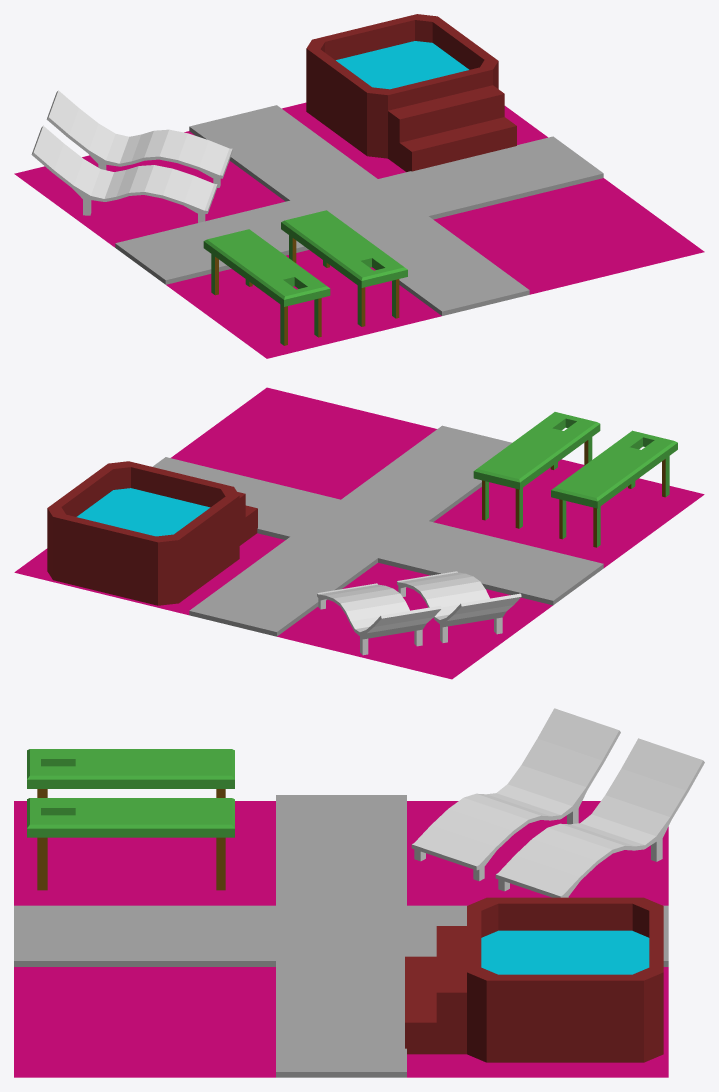
Rendered from Room 7 - Spa Draft - New.fbx.
3 views of the same model, one above another, from view 1: azimuth 30°, elevation 25°; view 2: azimuth 150°, elevation 25°; view 3: azimuth 270°, elevation 25° (orthographic). The views are drawn at different scales.
Parts seen in each view (by area): view 1: pPlane1, HotTub, Sun_Lounge, Sun_Lounge1, Massage_Table1, Massage_Table; view 2: pPlane1, HotTub, Massage_Table1, Massage_Table, Sun_Lounge1, Sun_Lounge; view 3: pPlane1, HotTub, Sun_Lounge, Sun_Lounge1, Massage_Table, Massage_Table1.
Part boxes in pixels (x1,y1,x2,y2): pPlane1: (14, 102, 704, 358); HotTub: (306, 14, 516, 171); Sun_Lounge: (31, 125, 217, 222); Sun_Lounge1: (46, 90, 232, 187); Massage_Table1: (203, 229, 330, 345); Massage_Table: (281, 210, 407, 326); pPlane1: (14, 387, 704, 679); HotTub: (47, 461, 257, 605); Massage_Table1: (551, 430, 677, 547); Massage_Table: (473, 412, 600, 528); Sun_Lounge1: (317, 583, 441, 655); Sun_Lounge: (397, 571, 521, 642); pPlane1: (14, 795, 668, 1077); HotTub: (405, 897, 663, 1062); Sun_Lounge: (411, 708, 620, 881); Sun_Lounge1: (495, 738, 704, 897); Massage_Table: (27, 798, 234, 890); Massage_Table1: (27, 749, 234, 797).
Bounding box in the file's own units: 10.59 × 1.4 × 10.55.
